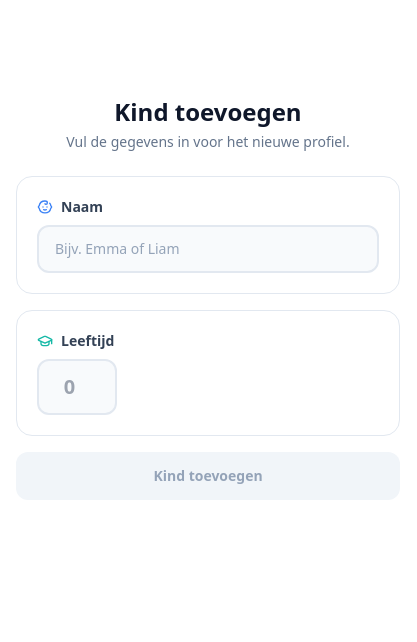
Test: ParentAddChild › keeps the submit button disabled until a name and a valid age are entered
The image size is (417, 642).
Check: the heading "Kind toevoegen" is shown, box left=114, top=95, right=302, bottom=128
Check: the button "Kind toevoegen" is disabled, box left=16, top=452, right=400, bottom=500
In the field with placeholder "Bijv. Emma of Liam": (208, 249) left=37, top=225, right=379, bottom=273, type "Test Child"
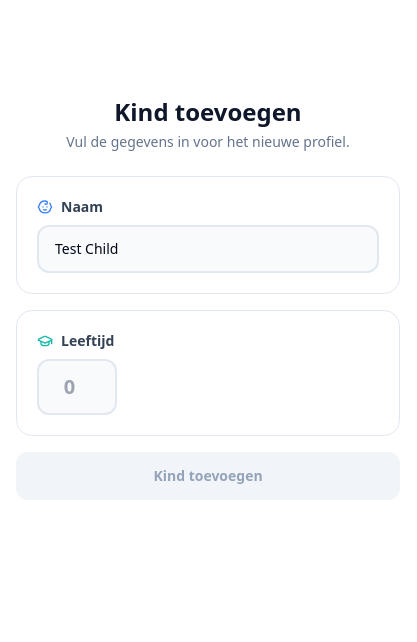
Check: the button "Kind toevoegen" is disabled, box left=16, top=452, right=400, bottom=500
In the number field with placeholder "0": (77, 387) left=37, top=359, right=117, bottom=415, type "8"
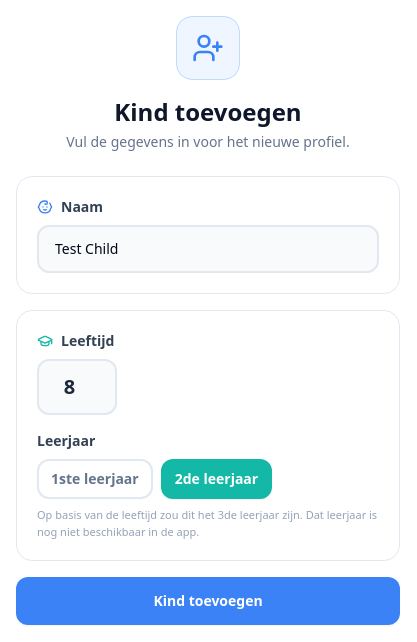
Check: the button "Kind toevoegen" is enabled, box left=16, top=577, right=400, bottom=625
